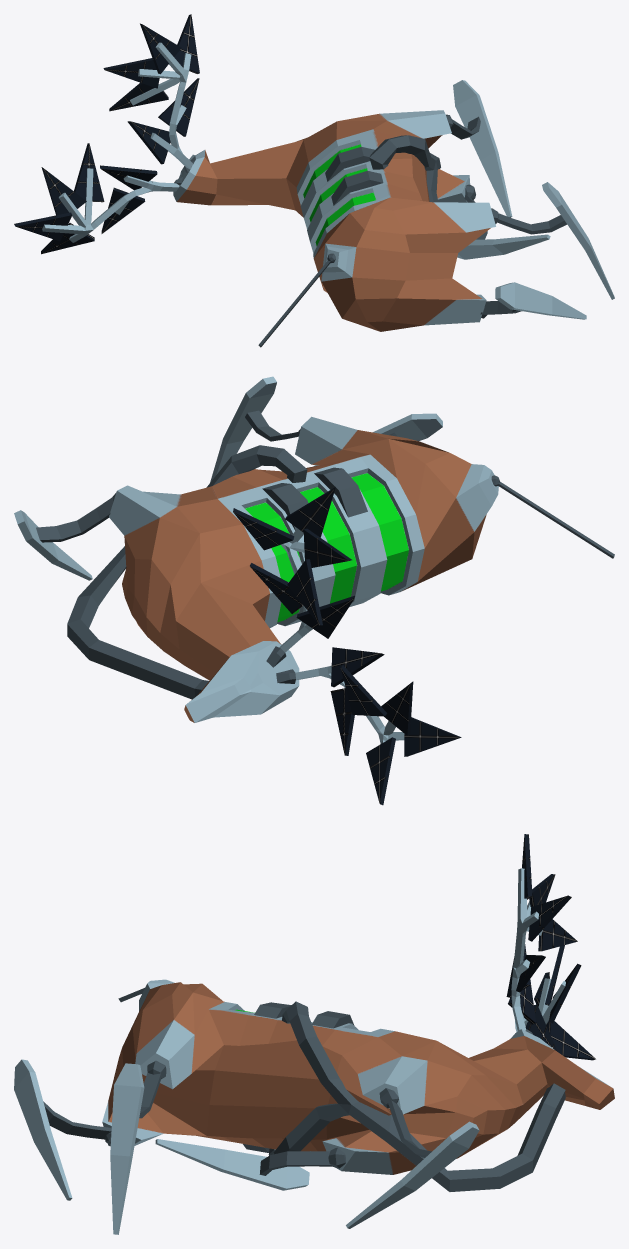
Rendered from Deer-dead.fbx.
The picture shows the model from 3 angles, top to bottom: view 1: azimuth 30°, elevation 25°; view 2: azimuth 150°, elevation 25°; view 3: azimuth 270°, elevation 25°; orthographic projection. The views are drawn at different scales.
Visible parts, largest first — view 1: Deer Dead Body; view 2: Deer Dead Body; view 3: Deer Dead Body.
Part boxes in pixels (x1,y1,x2,y2): Deer Dead Body: (14,14,614,347); Deer Dead Body: (14,376,614,805); Deer Dead Body: (14,834,614,1234).
Size of the model in its own units: 1000 by 1087 by 530.
